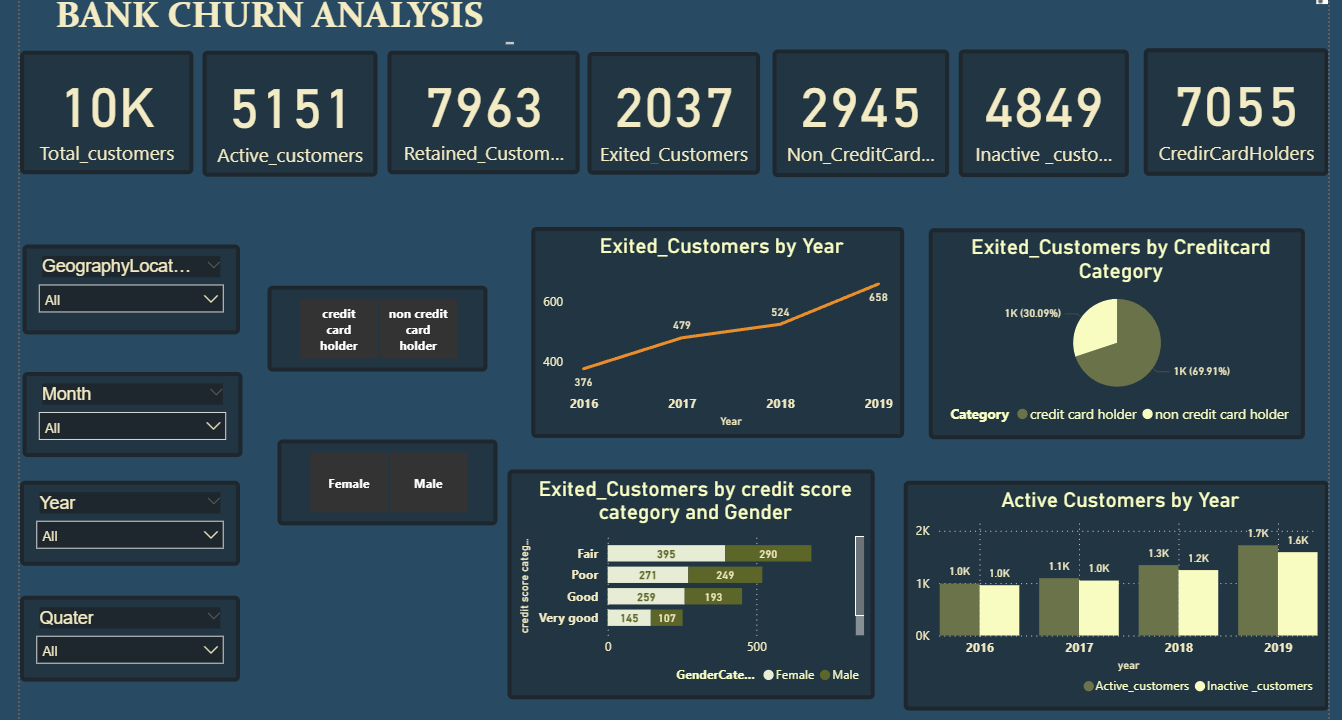

The page's visual inventory and layout, read from the dashboard file:
{"tool":"powerbi","page":{"name":"Page 1","canvas":[1280,720],"ordinal":0},"visuals":[{"type":"card","fields":{"Values":["Bank_Churn.Total_customers"]},"box":[0,57.5,170,121.1],"z":0},{"type":"card","fields":{"Values":["Bank_Churn.Active_customers"]},"box":[178.5,57.5,171.2,123.5],"z":1000},{"type":"card","fields":{"Values":["Bank_Churn.Inactive _customers"]},"box":[918.3,56.3,166.3,124.7],"z":2000},{"type":"card","fields":{"Values":["Bank_Churn.CredirCardHolders"]},"box":[1099.3,55,181,124.7],"z":3000},{"type":"card","fields":{"Values":["Bank_Churn.Non_CreditCardHolders"]},"box":[736.1,56.3,172.4,124.7],"z":4000},{"type":"card","fields":{"Values":["Bank_Churn.Retained_Customers"]},"box":[359.5,57.5,188.3,121.1],"z":5000},{"type":"card","fields":{"Values":["Bank_Churn.Existed_Customers"]},"box":[555.2,58.7,168.8,119.8],"z":6000},{"type":"textbox","box":[0,0,11,12.2],"z":7000},{"type":"slicer","fields":{"Values":["CreditCard.Category"]},"box":[242.1,287.4,215.2,84.4],"z":8000},{"type":"clusteredColumnChart","title":"Active Customers by Year","fields":{"Category":["DateTable.Year"],"Y":["Bank_Churn.Active_customers","Bank_Churn.Inactive _customers"]},"box":[864.5,478.1,415.8,225],"z":9000},{"type":"textbox","title":"BANK CHURN ANALYSIS","box":[0,0,487.9,56.3],"z":10000},{"type":"qnaVisual","box":[1268.1,0,12.2,12.2],"z":11000},{"type":"pieChart","title":"Exited_Customers by Creditcard Category","fields":{"Y":["Bank_Churn.Existed_Customers"],"Category":["CreditCard.Category"]},"box":[889,231.1,368.1,206.7],"z":12000},{"type":"lineChart","fields":{"Category":["DateTable.Year"],"Y":["Bank_Churn.Existed_Customers"]},"box":[500.1,229.9,364.4,206.7],"z":13000},{"type":"slicer","fields":{"Values":["DateTable.Month"]},"box":[2.4,371.7,215.2,83.2],"z":14000},{"type":"slicer","fields":{"Values":["Geography.GeographyLocation"]},"box":[2.4,247,212.8,88],"z":15000},{"type":"barChart","title":"Exited_Customers by credit score category and Gender","fields":{"Y":["Bank_Churn.Existed_Customers"],"Category":["Bank_Churn.credit score category"],"Series":["Gender.GenderCategory"]},"box":[476.9,467.1,359.5,225],"z":16000},{"type":"slicer","fields":{"Values":["DateTable.Year"]},"box":[0,478.1,215.2,83.2],"z":17000},{"type":"slicer","fields":{"Values":["DateTable.Quarter"]},"box":[0,590.6,215.2,84.4],"z":18000},{"type":"slicer","fields":{"Values":["Gender.GenderCategory"]},"box":[251.9,437.8,215.2,84.4],"z":19000}]}

Visuals, with their boxes on the page's 1280x720 design canvas (x1, y1, x2, y2). These are canvas units, not pixel positions in the 1342x720 screenshot, which may show the page scaled, cropped or inside an application window:
card - Bank_Churn.Total_customers: [0, 58, 170, 179]
card - Bank_Churn.Active_customers: [178, 58, 350, 181]
card - Bank_Churn.Inactive _customers: [918, 56, 1085, 181]
card - Bank_Churn.CredirCardHolders: [1099, 55, 1280, 180]
card - Bank_Churn.Non_CreditCardHolders: [736, 56, 908, 181]
card - Bank_Churn.Retained_Customers: [360, 58, 548, 179]
card - Bank_Churn.Existed_Customers: [555, 59, 724, 178]
textbox: [0, 0, 11, 12]
slicer - CreditCard.Category: [242, 287, 457, 372]
"Active Customers by Year" clusteredColumnChart: [864, 478, 1280, 703]
"BANK CHURN ANALYSIS" textbox: [0, 0, 488, 56]
qnaVisual: [1268, 0, 1280, 12]
"Exited_Customers by Creditcard Category" pieChart: [889, 231, 1257, 438]
lineChart - DateTable.Year x Bank_Churn.Existed_Customers: [500, 230, 864, 437]
slicer - DateTable.Month: [2, 372, 218, 455]
slicer - Geography.GeographyLocation: [2, 247, 215, 335]
"Exited_Customers by credit score category and Gender" barChart: [477, 467, 836, 692]
slicer - DateTable.Year: [0, 478, 215, 561]
slicer - DateTable.Quarter: [0, 591, 215, 675]
slicer - Gender.GenderCategory: [252, 438, 467, 522]
